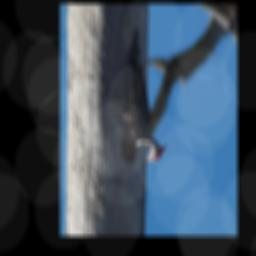Woodpecker: (113, 25, 168, 167)
